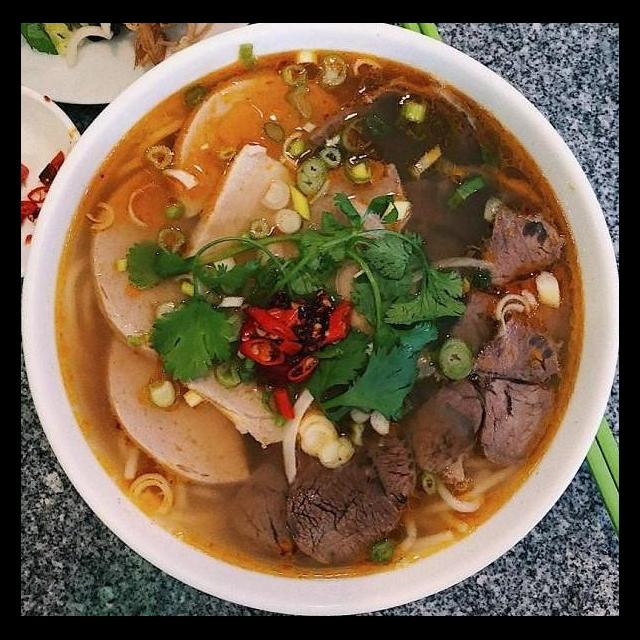bun: (386, 454, 524, 562), (52, 255, 115, 362)
bun bo: (48, 65, 588, 591)
thit bo: (466, 258, 586, 474), (382, 158, 568, 296), (279, 412, 418, 574), (305, 74, 498, 190), (219, 426, 344, 564), (404, 372, 494, 496)
